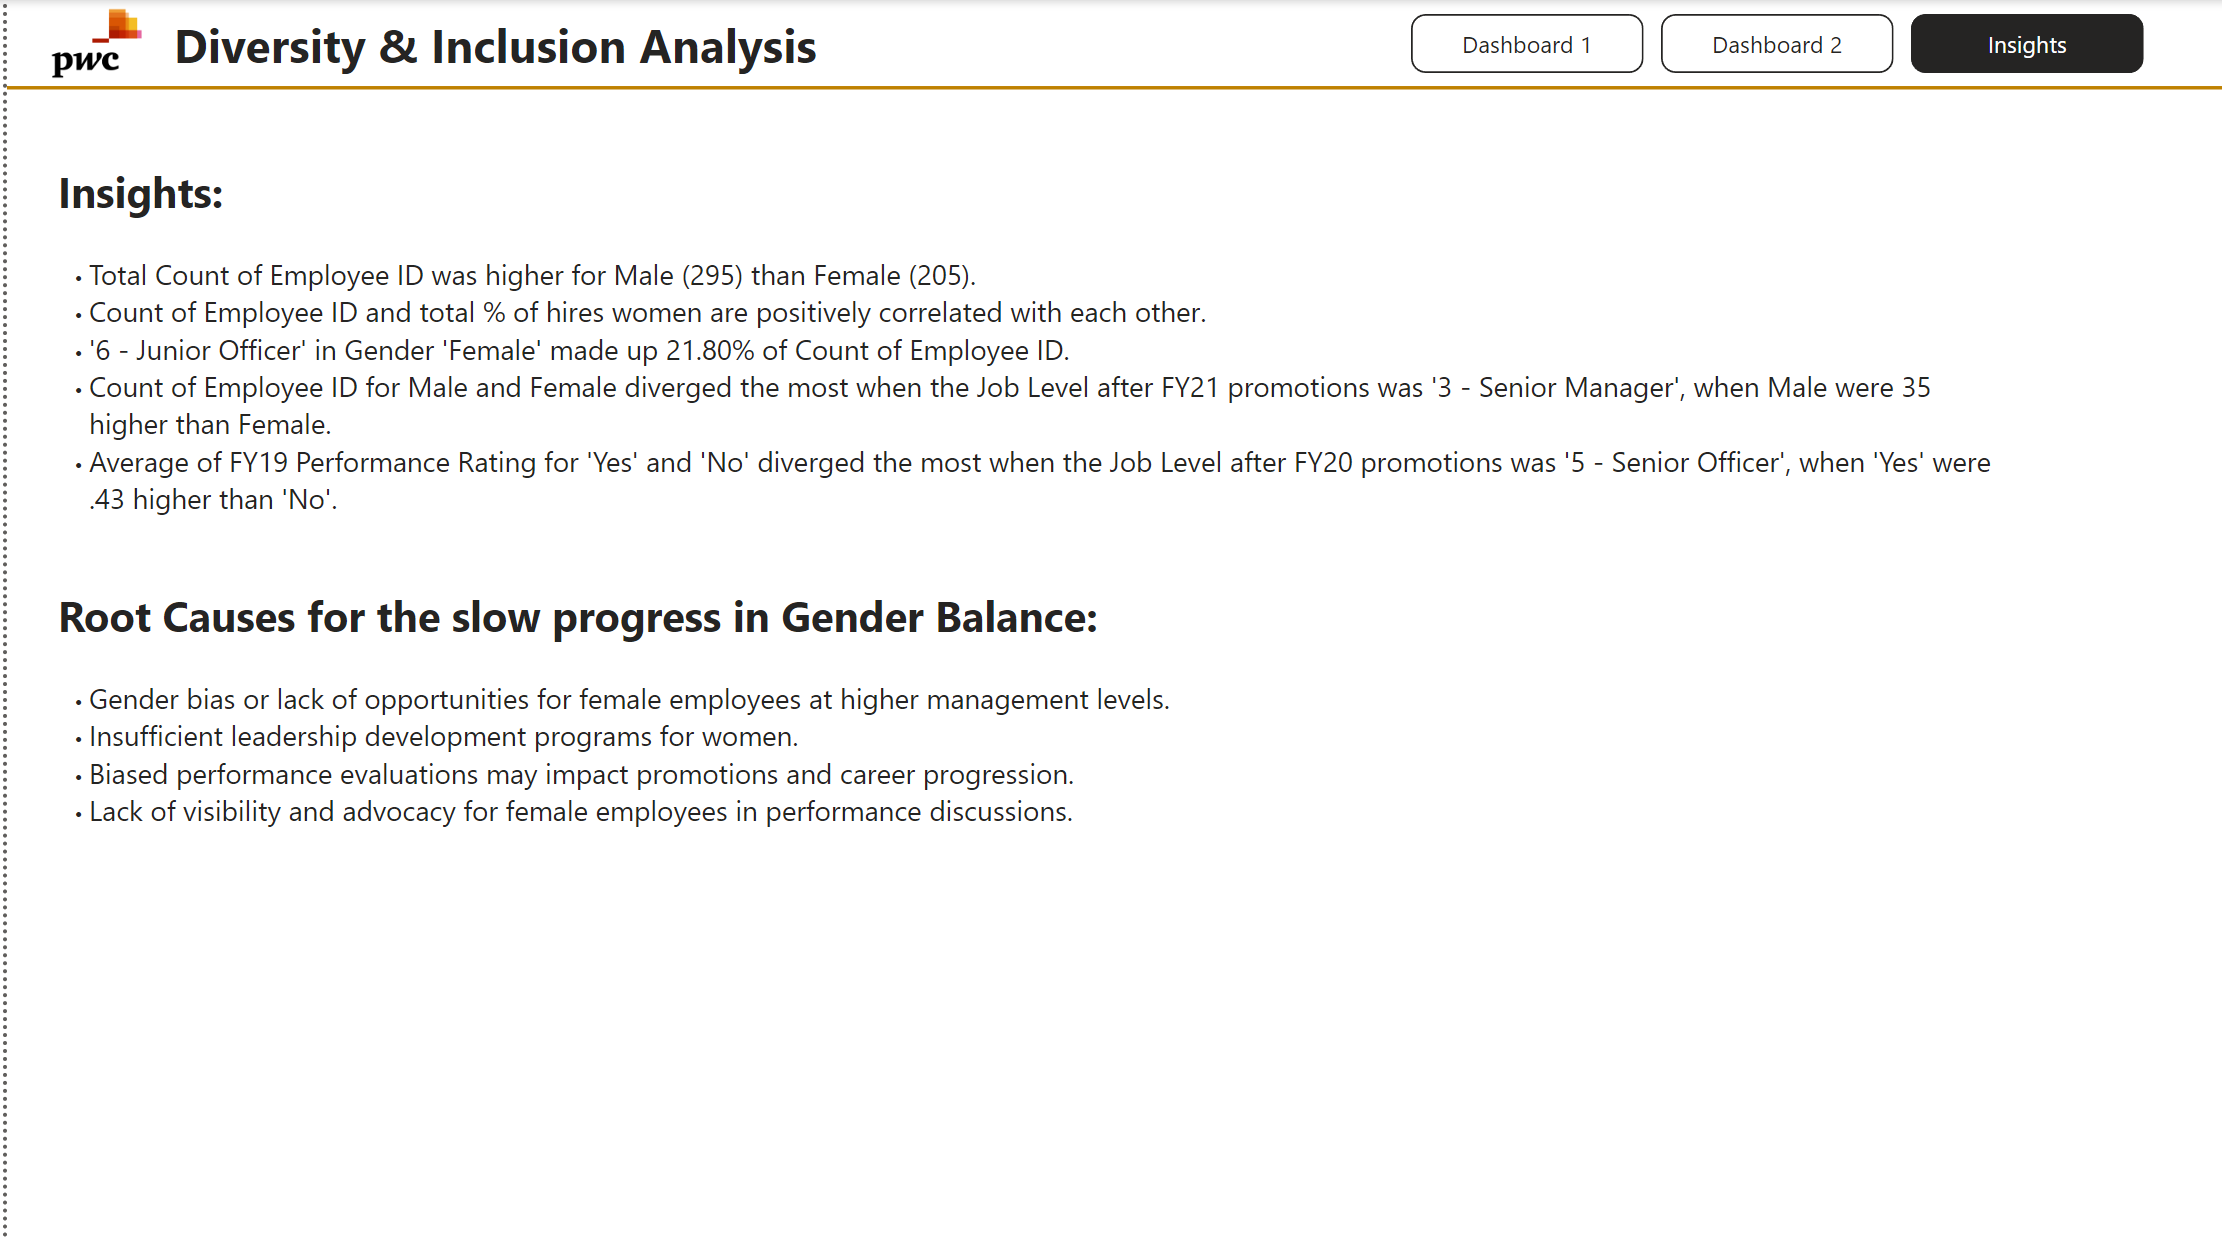

What the dashboard file says about the page in this screenshot:
{"tool":"powerbi","page":{"name":"Insights","canvas":[1280,720],"ordinal":2},"visuals":[{"type":"textbox","box":[90.4,1.8,402.1,45.7],"z":0},{"type":"shape","box":[0,37.6,1279.7,25.1],"z":1000},{"type":"image","box":[12.5,0,77.9,50.1],"z":2000},{"type":"pageNavigator","box":[808.7,8.1,423.6,34],"z":3000},{"type":"textbox","box":[24.2,88.7,132.5,52.8],"z":4003},{"type":"textbox","box":[24.2,141.5,1131.9,170.1],"z":4004},{"type":"textbox","box":[24.2,333.1,673.4,52.8],"z":4006},{"type":"textbox","box":[24.2,386,1083.6,107.5],"z":4007}]}

Visuals, with their boxes in screenshot pixels (x1, y1, x2, y2), scaled from the page's 1280x720 canvas onto the 2222x1238 screenshot:
textbox: select_region(157, 3, 855, 82)
shape: select_region(0, 65, 2221, 108)
image: select_region(22, 0, 157, 86)
pageNavigator: select_region(1404, 14, 2139, 72)
textbox: select_region(42, 153, 272, 243)
textbox: select_region(42, 243, 2007, 536)
textbox: select_region(42, 573, 1211, 664)
textbox: select_region(42, 664, 1923, 849)
